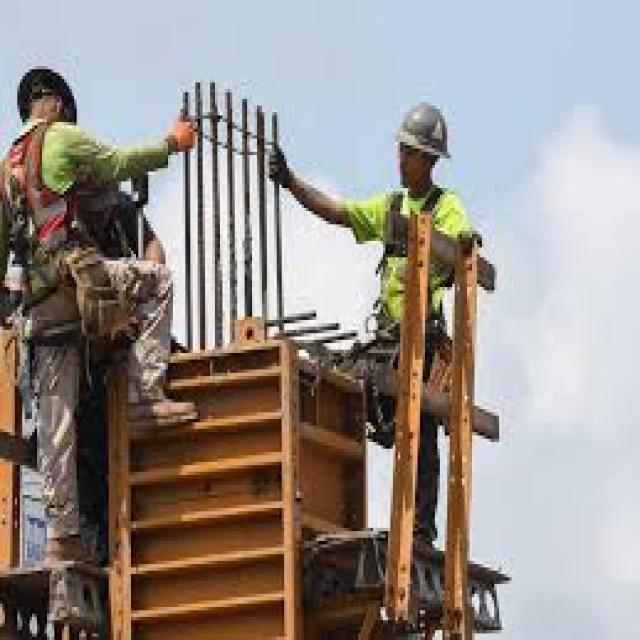Reflective-Jacket: (341, 182, 492, 343)
Safety-Helmet: (383, 92, 462, 168)
